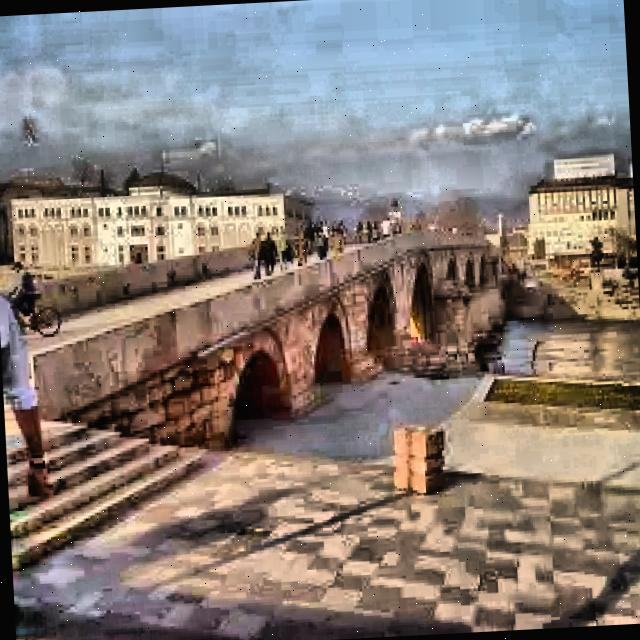stone bridge: (0, 209, 520, 417)
